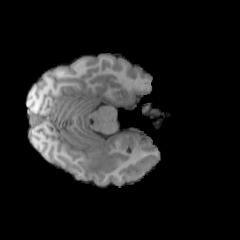glioma: (79, 145, 127, 175)
